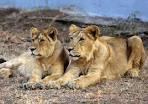lion: (65, 20, 148, 83), (8, 28, 67, 85)
